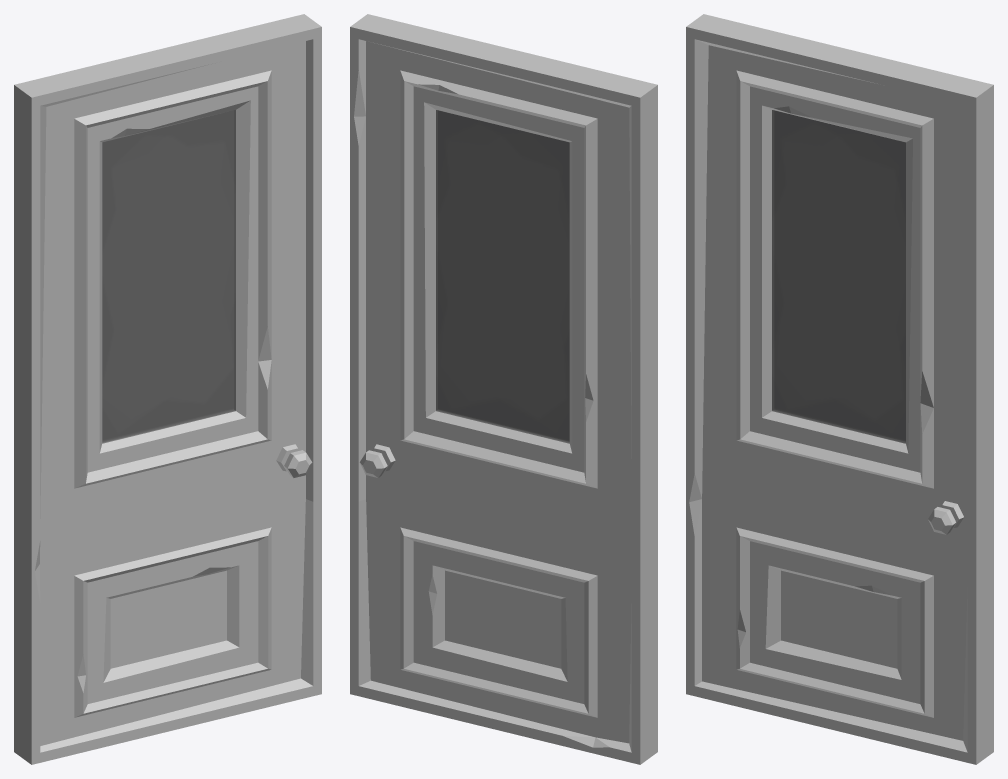
File: SM_Bld_Door_Large_01.fbx
The picture shows the model from 3 angles, left to right: view 1: azimuth 30°, elevation 25°; view 2: azimuth 150°, elevation 25°; view 3: azimuth 330°, elevation 25°; orthographic projection.
Parts seen in each view (by area): view 1: SM_Bld_Door_Large_01; view 2: SM_Bld_Door_Large_01; view 3: SM_Bld_Door_Large_01.
Boxes of the visible parts, x1=… form: SM_Bld_Door_Large_01: x1=14, y1=14, x2=321, y2=764; SM_Bld_Door_Large_01: x1=350, y1=14, x2=657, y2=764; SM_Bld_Door_Large_01: x1=686, y1=14, x2=993, y2=764.
Size of the model in its own units: 112 by 247 by 24.4.
